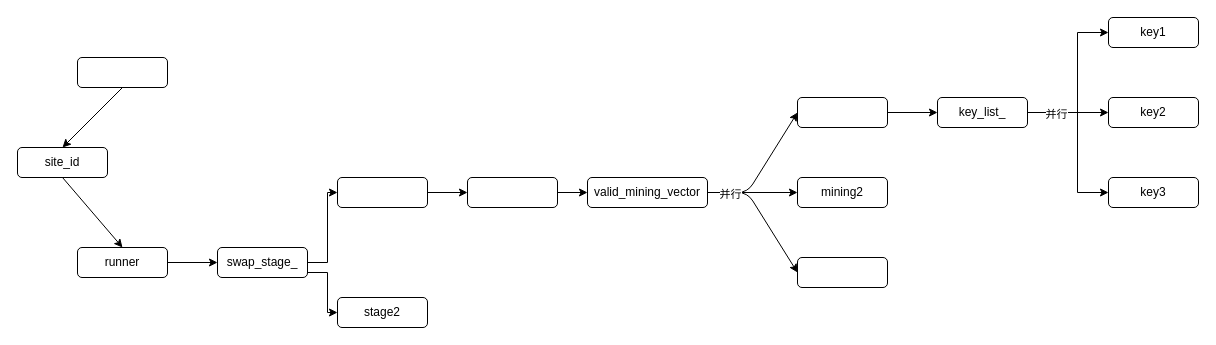
Some shapes in this 1216 by 345 pixel diagram are drawn without their labels. The shapes that lost their labels are listed below. From the top down, each one's box as (x1, y1, x2, y2) in pixels, then its label:
(76, 56, 168, 88): opera_id
(796, 96, 888, 128): mining1
(336, 176, 428, 208): stage1
(466, 176, 558, 208): sku_mining_list
(796, 256, 888, 288): mining3
